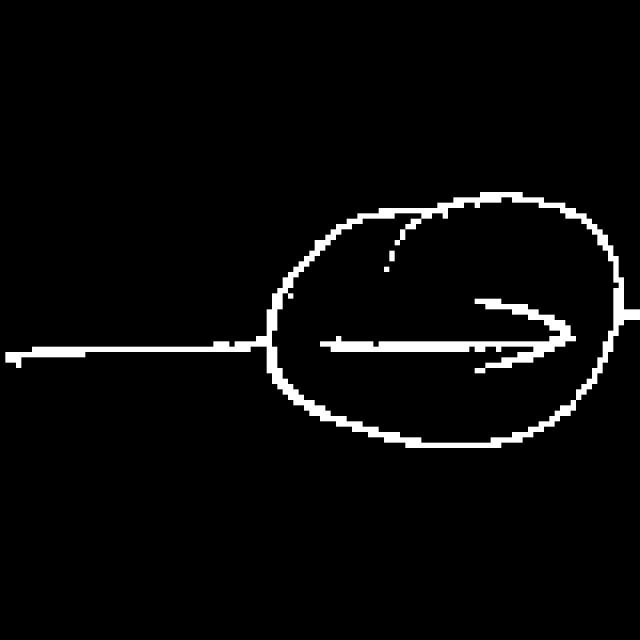current_source: (261, 161, 633, 466)
